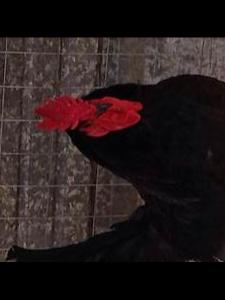hen: (1, 73, 225, 262)
